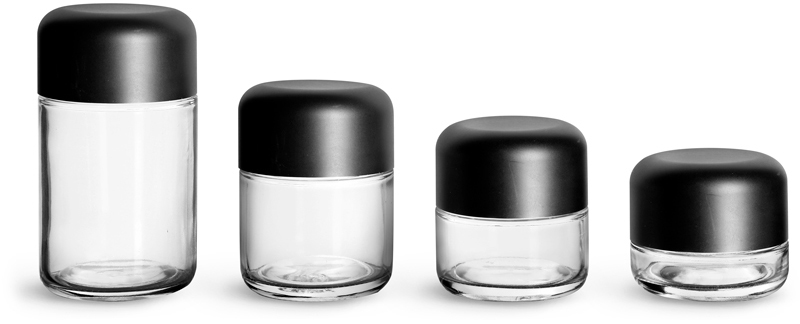glass_bottle: (32, 1, 205, 306), (234, 72, 396, 304), (431, 110, 593, 303), (623, 140, 794, 306)
